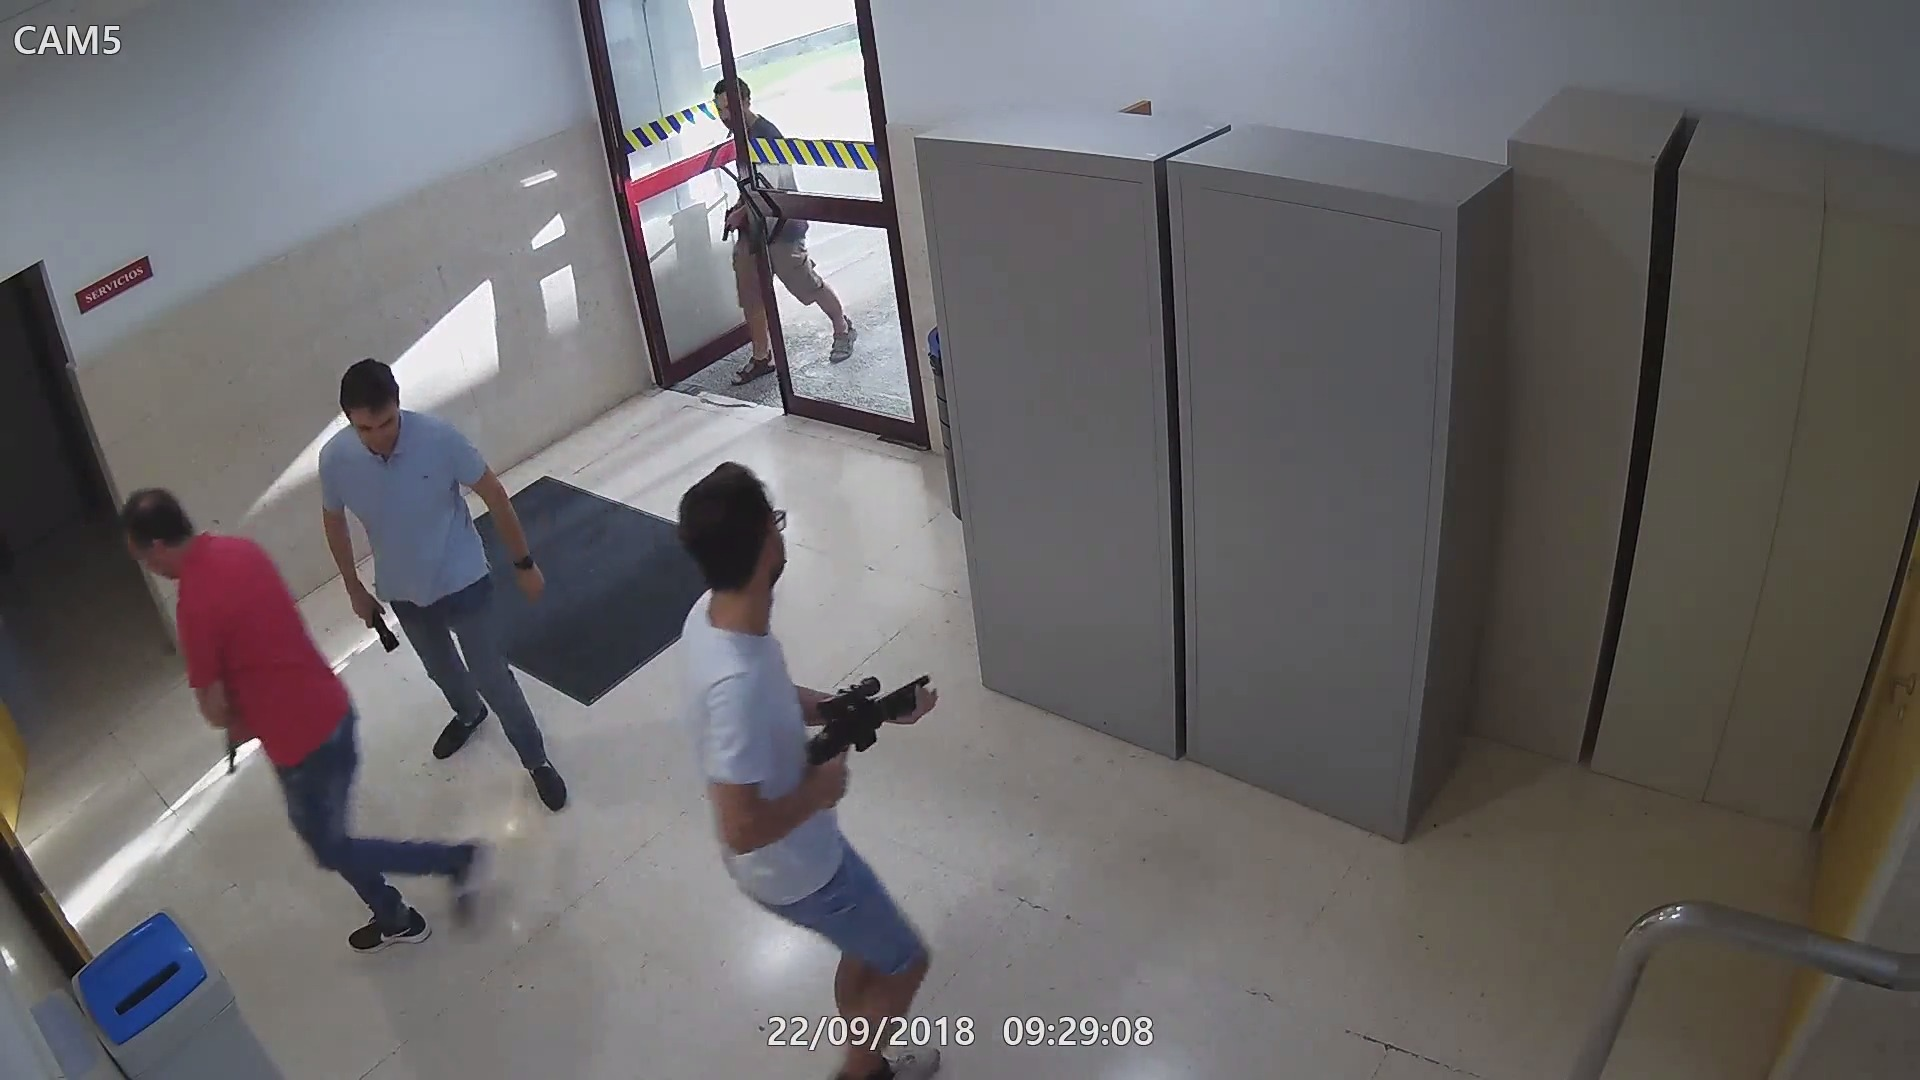Handgun: (720, 193, 742, 243)
Short_rifle: (796, 665, 942, 814)
